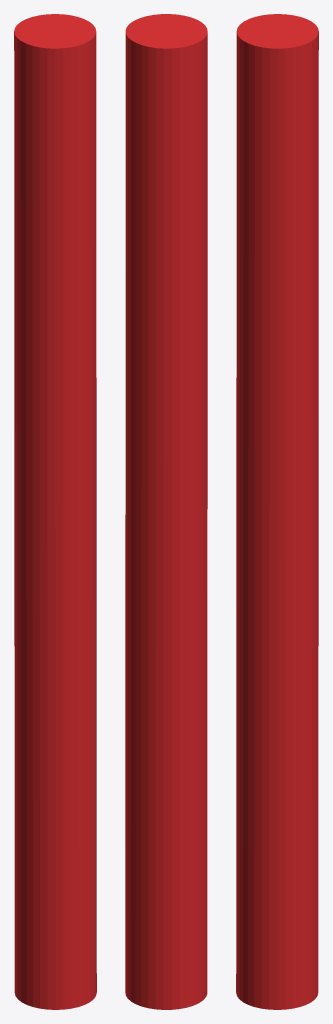
File: tun.fbx
3 views of the same model, side by side, from view 1: azimuth 90°, elevation 25°; view 2: azimuth 210°, elevation 25°; view 3: azimuth 270°, elevation 25° (orthographic).
Parts seen in each view (by area): view 1: Cylinder.001; view 2: Cylinder.001; view 3: Cylinder.001.
Part boxes in pixels (x1=…): Cylinder.001: x1=14, y1=14, x2=96, y2=1009; Cylinder.001: x1=125, y1=14, x2=207, y2=1009; Cylinder.001: x1=236, y1=14, x2=318, y2=1009.
Size of the model in its own units: 17.83 by 230 by 17.94.
